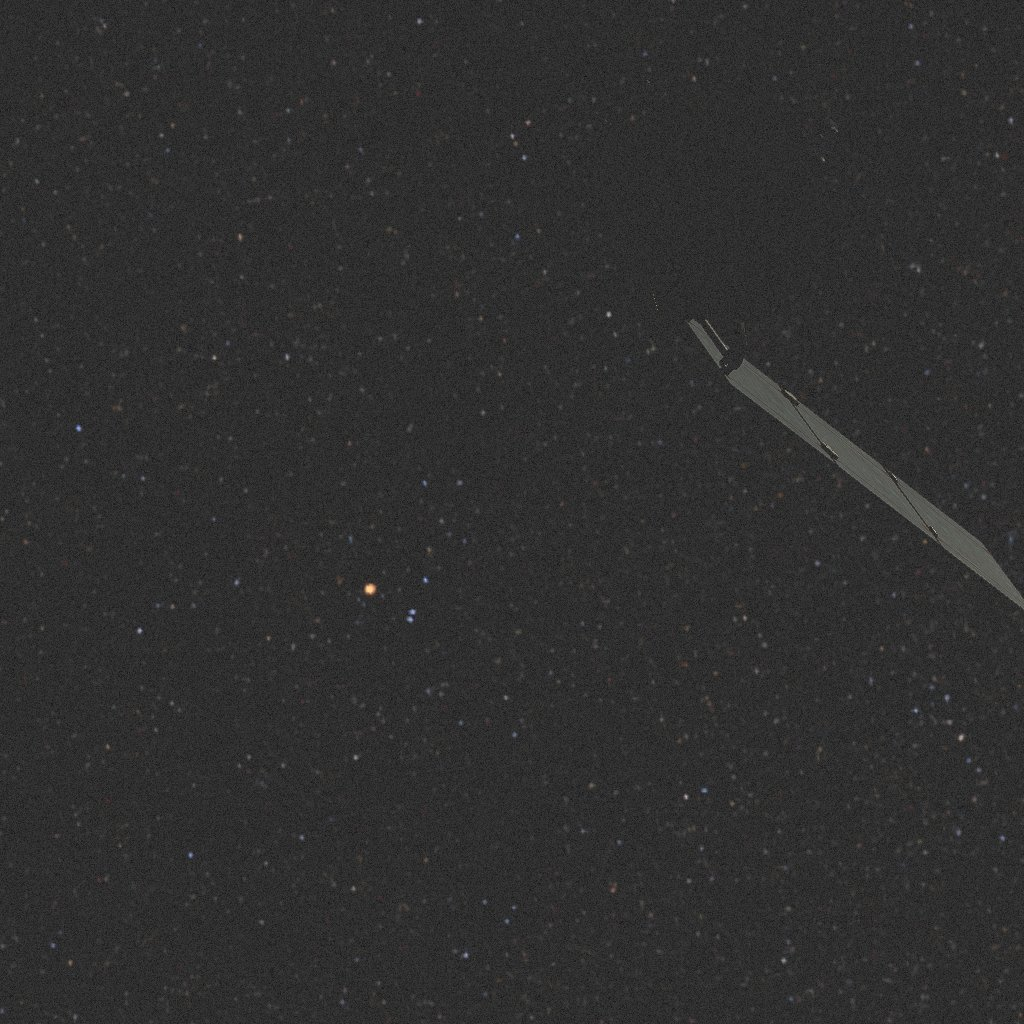earth_observation_sat_1: (587, 75, 1024, 613)
